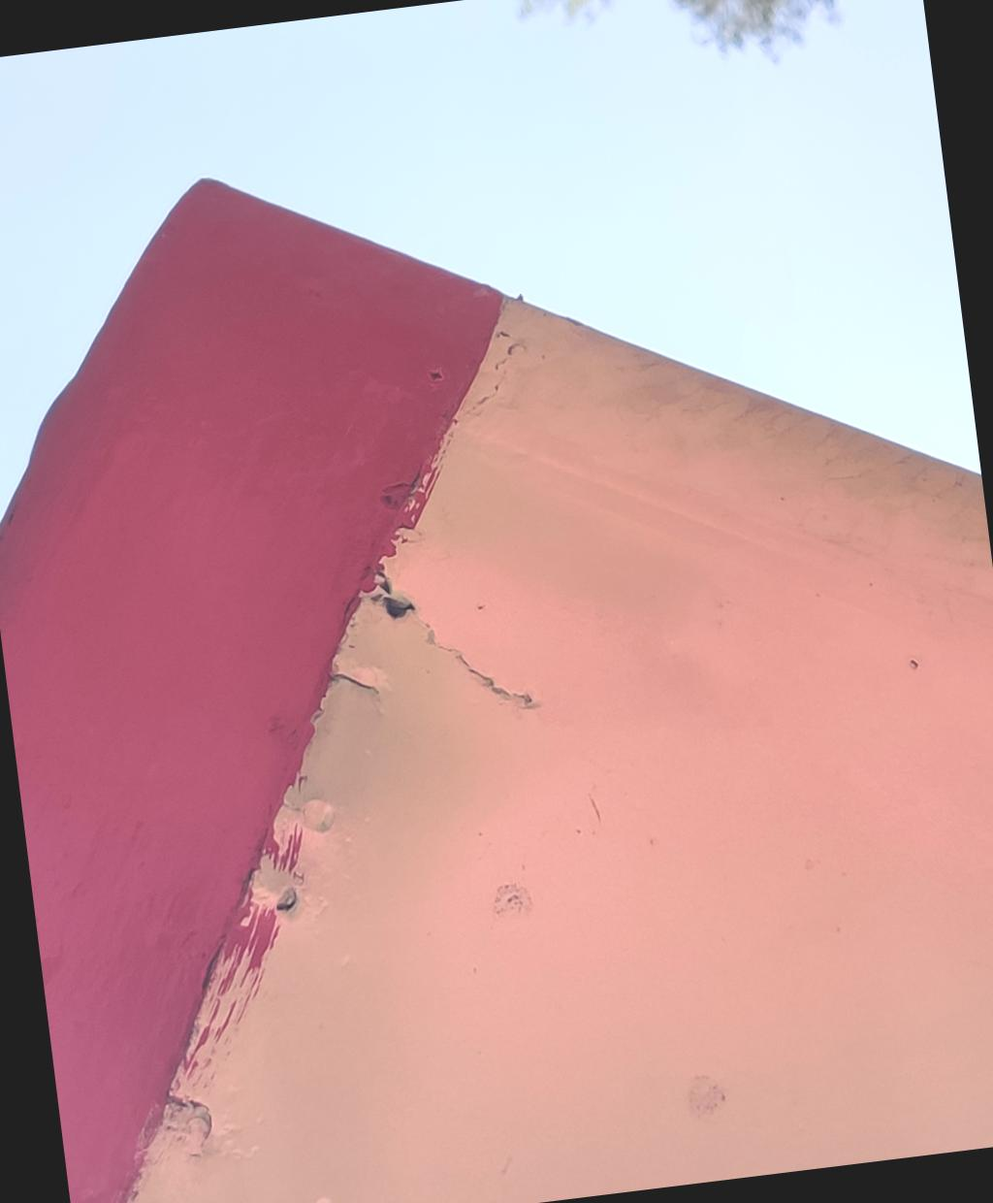crack: (344, 534, 556, 746), (314, 650, 394, 715)
